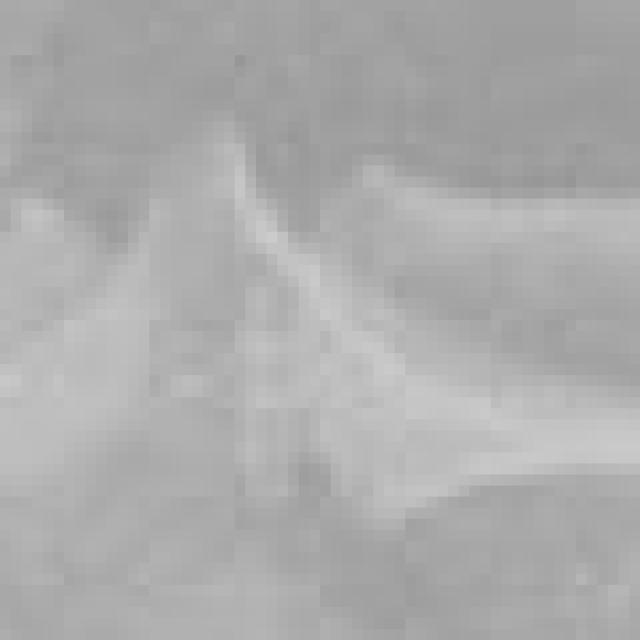fracture: (3, 5, 640, 640)
